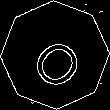O_NE: (22, 22, 88, 88)
